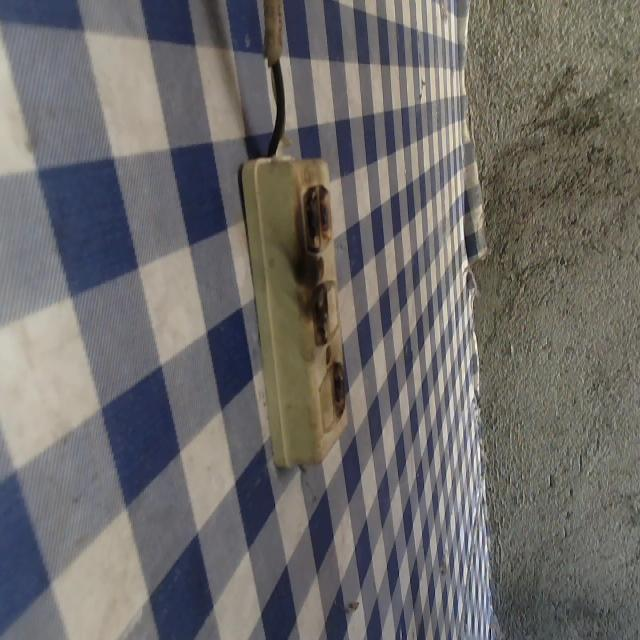-: (293, 180, 330, 252), (325, 356, 352, 423), (301, 280, 329, 341)
